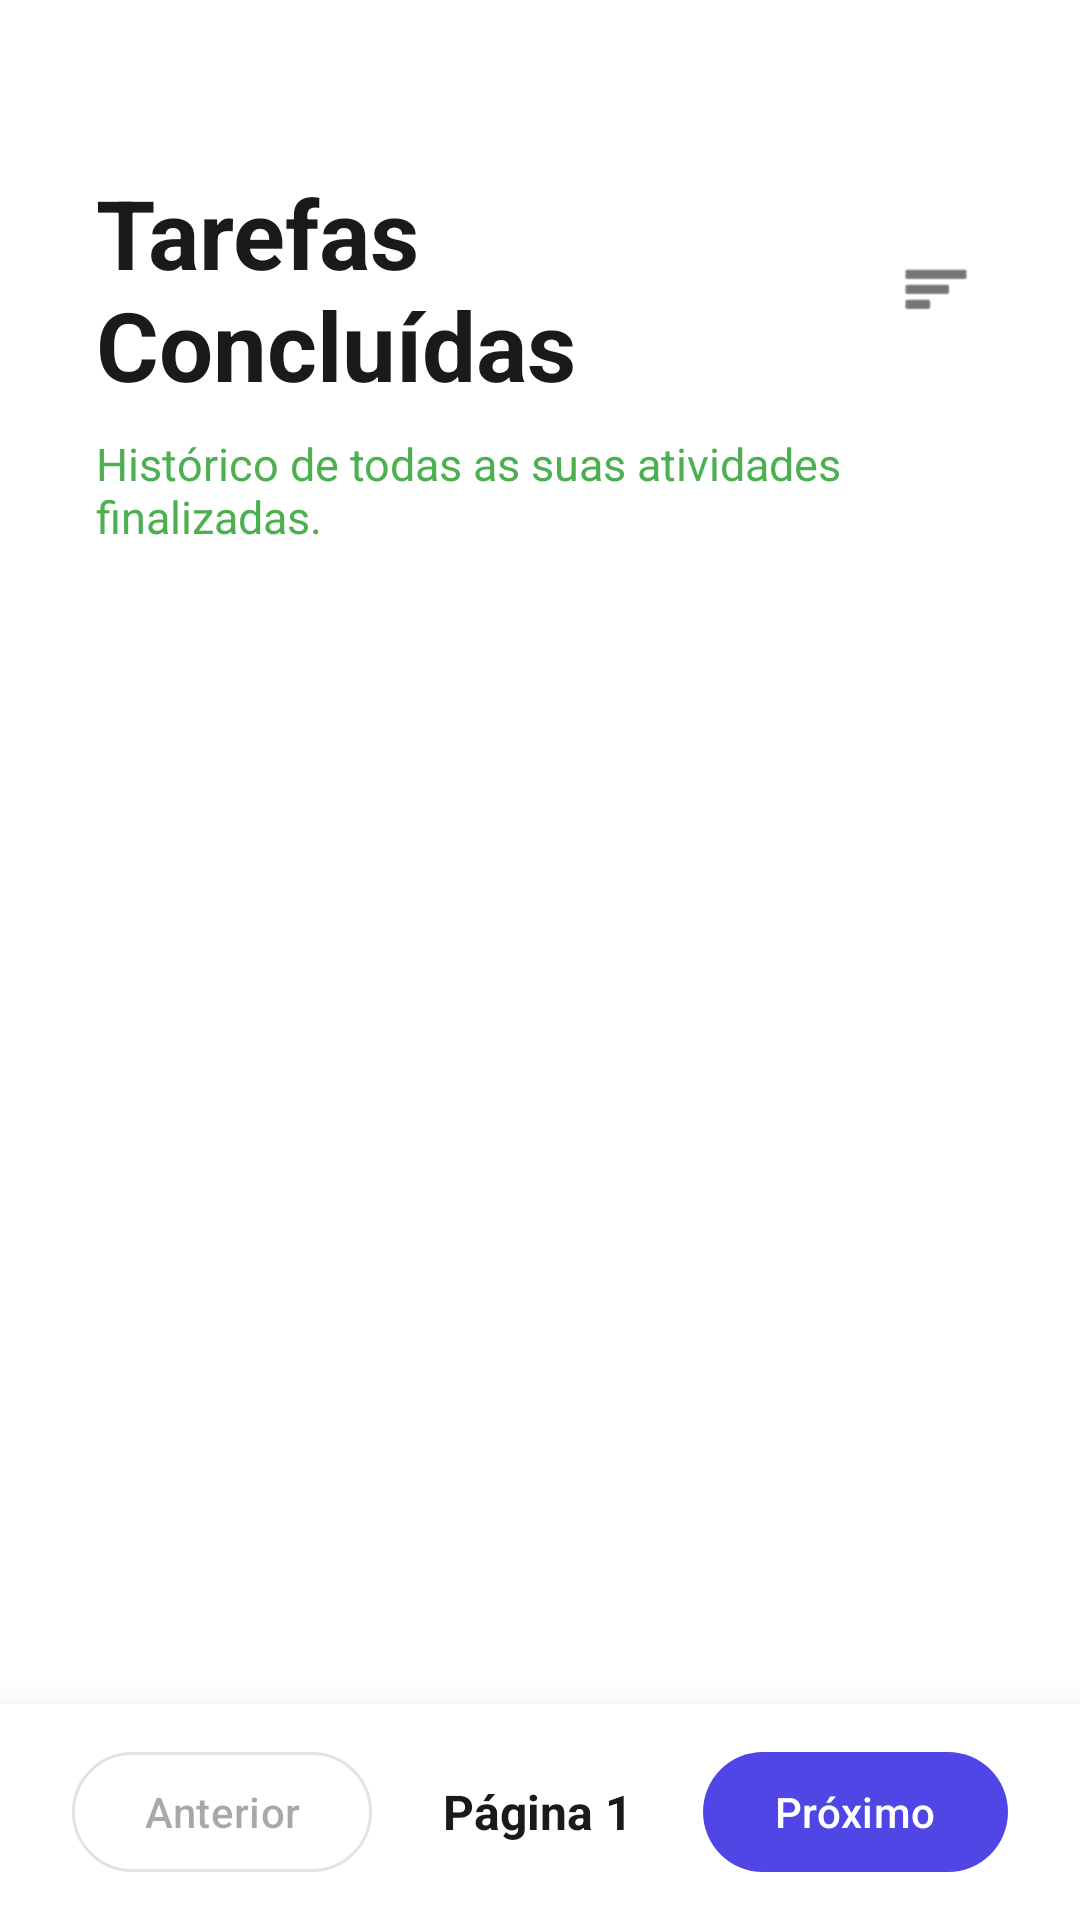

Where icons sit on this 1080x1920 app screen, as (x1, y1, x2, y2):
Ordenar lista: (905, 269, 967, 310)
